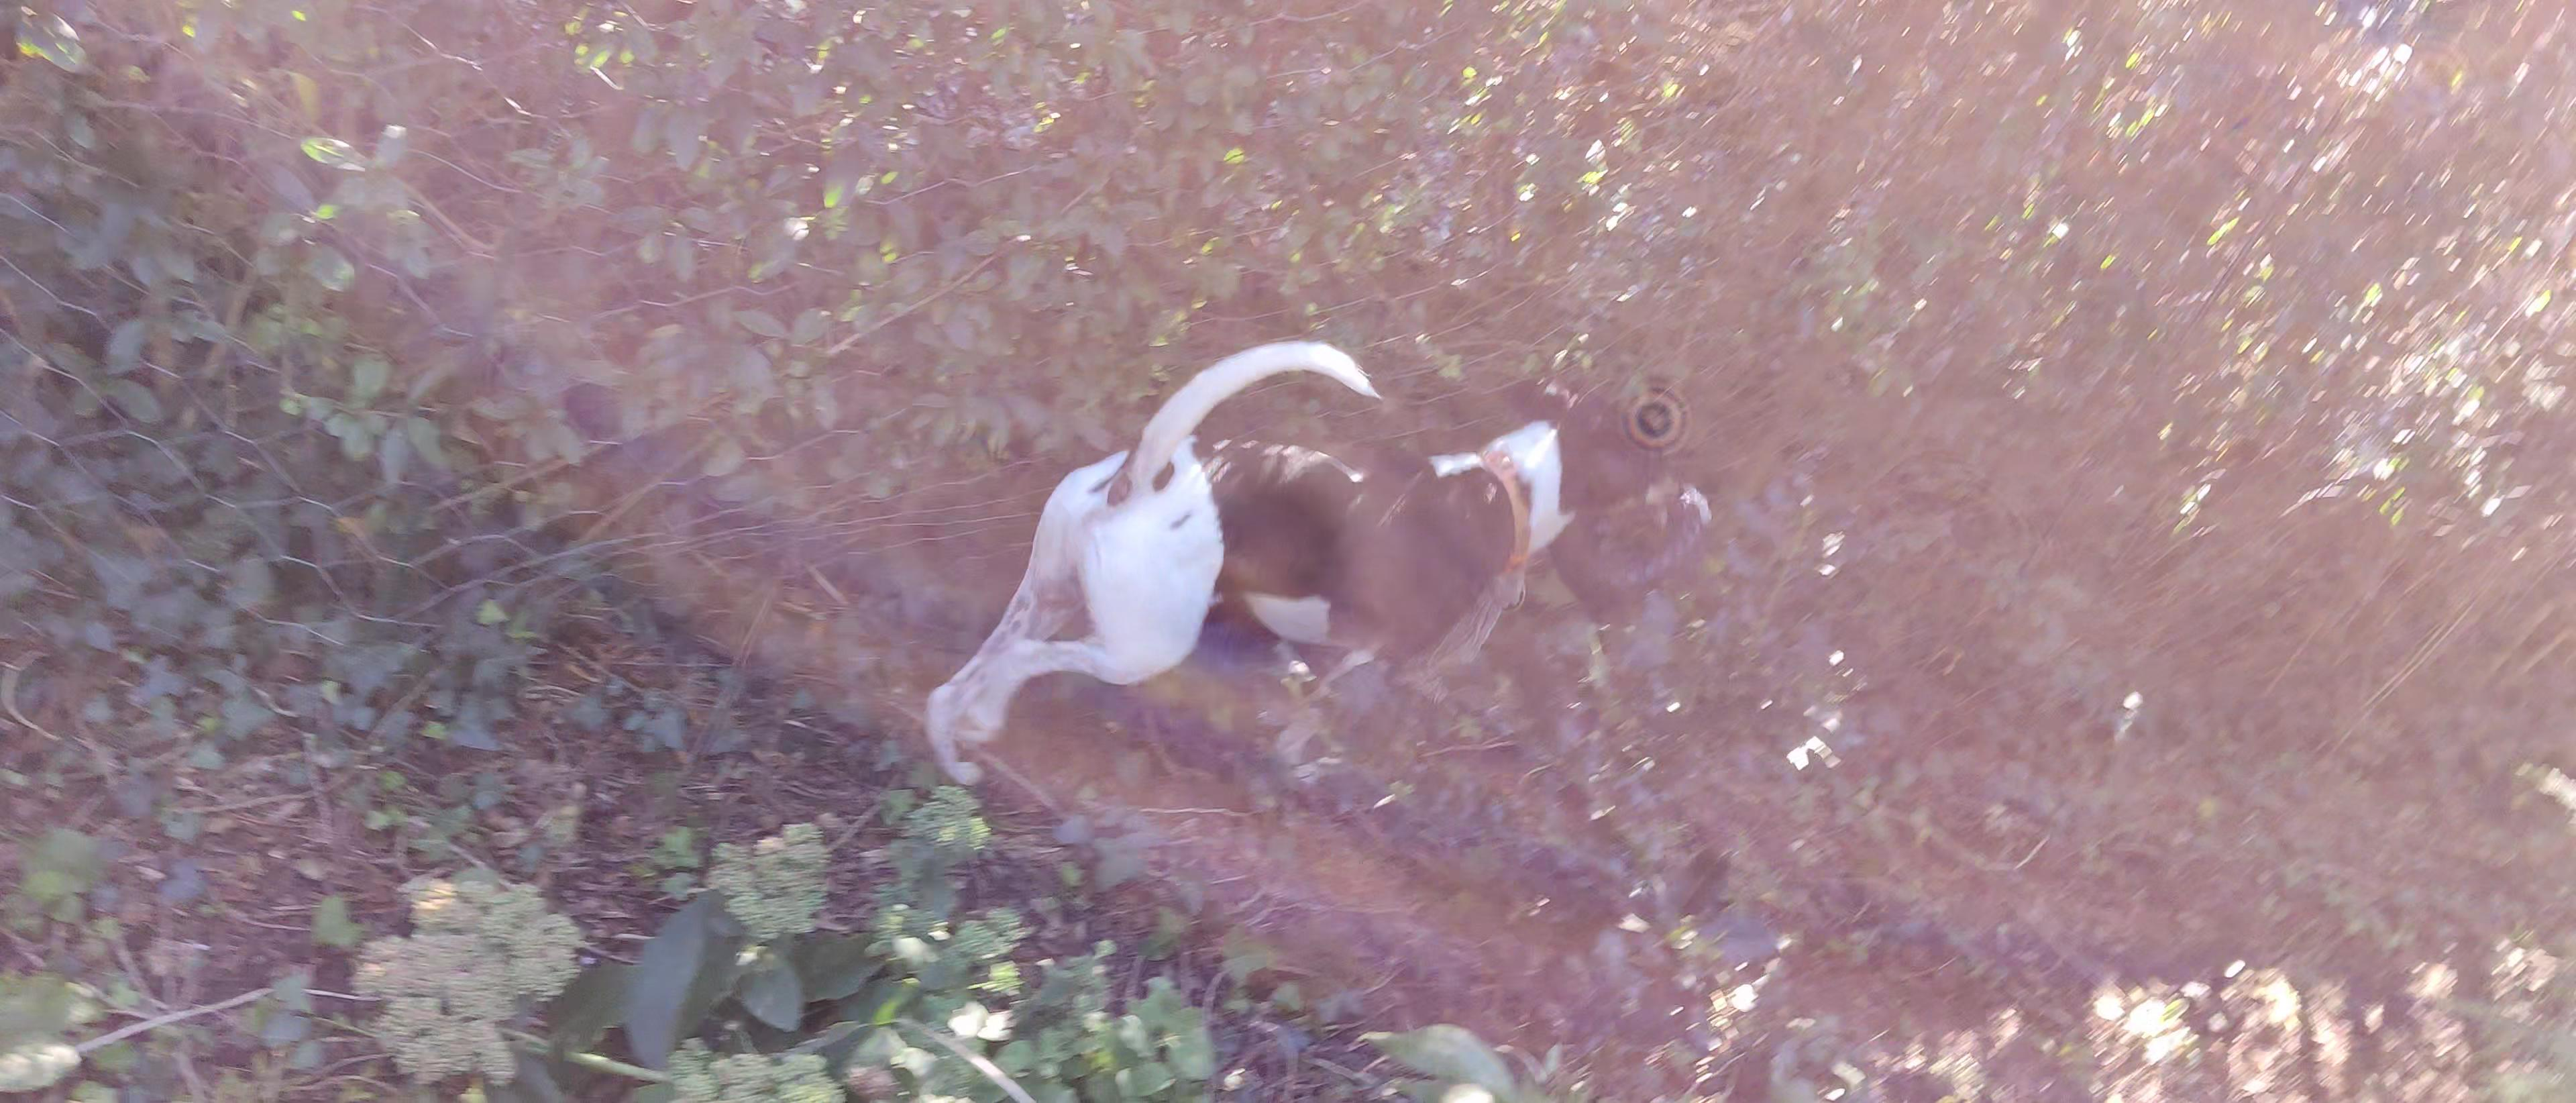Dog: (917, 332, 1686, 797)
